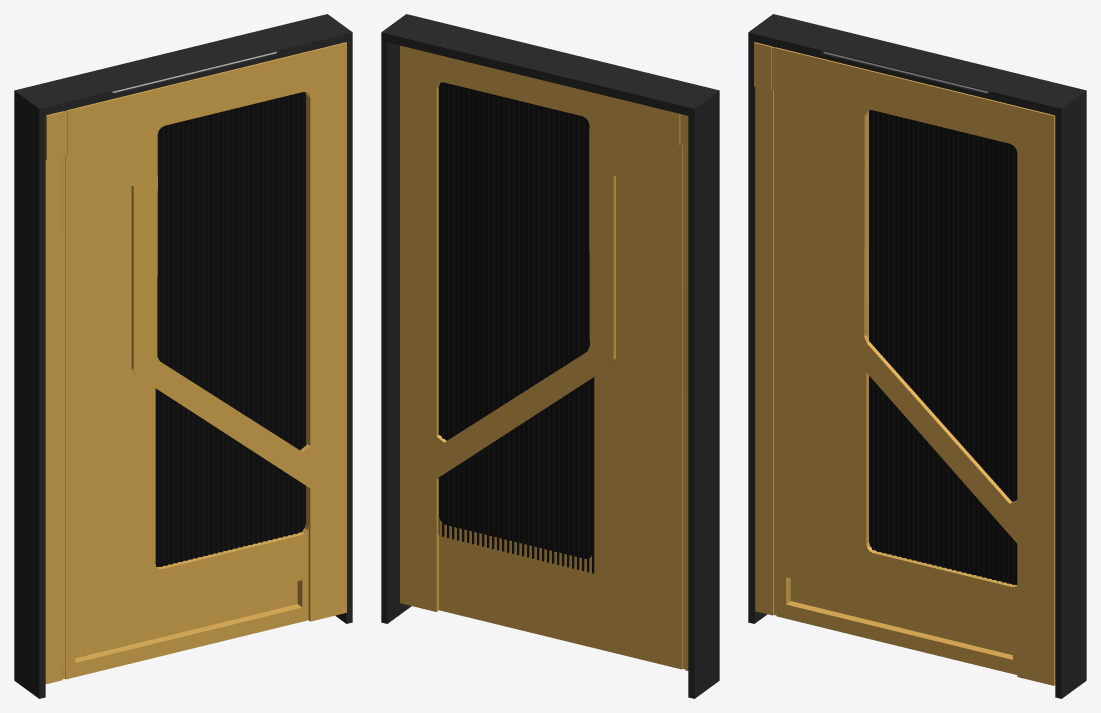
Rendered from Door.fbx.
3 views of the same model, side by side, from view 1: azimuth 30°, elevation 25°; view 2: azimuth 150°, elevation 25°; view 3: azimuth 330°, elevation 25° (orthographic).
Parts seen in each view (by area): view 1: Cube.002, marco; view 2: Cube.002, marco; view 3: Cube.002, marco.
Boxes of the visible parts, left/top/right/bottom form: Cube.002: left=45, top=42, right=346, bottom=684; marco: left=14, top=14, right=352, bottom=698; Cube.002: left=400, top=45, right=688, bottom=670; marco: left=381, top=14, right=719, bottom=698; Cube.002: left=754, top=42, right=1055, bottom=685; marco: left=748, top=14, right=1086, bottom=698.
Bounding box in the file's own units: 175 × 314 × 25.18.
